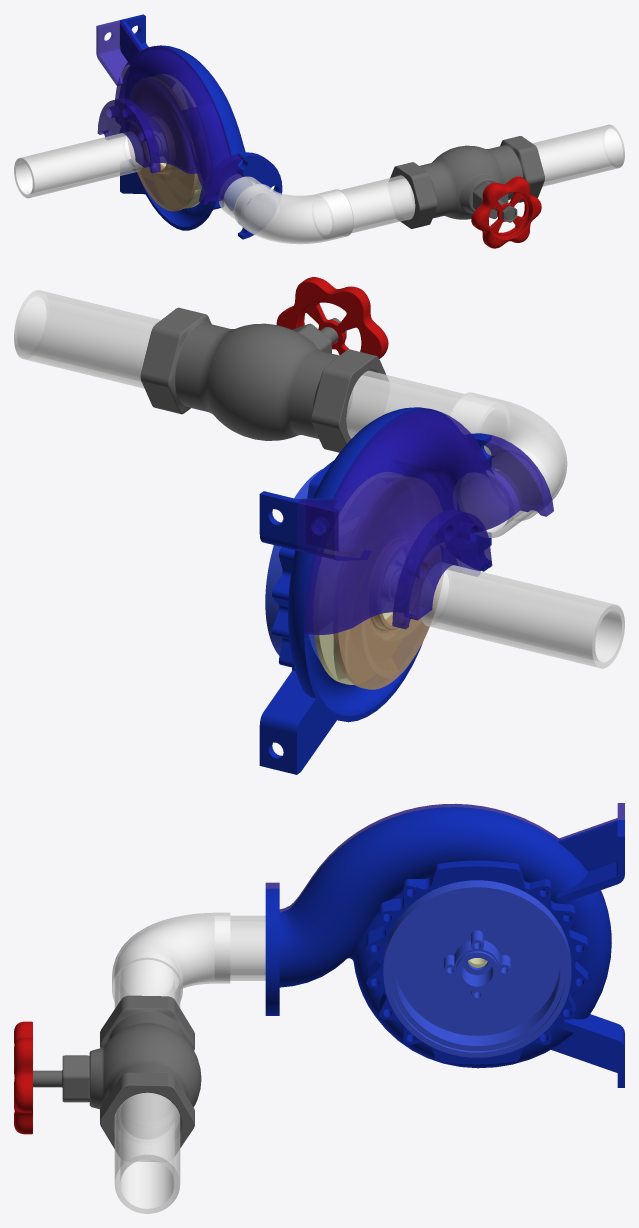
Rendered from bomba_centrifuga.fbx.
The picture shows the model from 3 angles, top to bottom: view 1: azimuth 30°, elevation 25°; view 2: azimuth 150°, elevation 25°; view 3: azimuth 270°, elevation 25°; orthographic projection. The views are drawn at different scales.
Visible parts, largest first — view 1: Cañerias Enteras, Bomba delantera, Bomba trasera, Vaálvula Estructura, Tapa Impulsor, Válvula, Impulsor; view 2: Bomba delantera, Cañerias Enteras, Bomba trasera, Vaálvula Estructura, Tapa Impulsor, Impulsor, Válvula, Tapa trasera; view 3: Bomba trasera, Tapa trasera, Cañerias Enteras, Vaálvula Estructura, Válvula, Bomba delantera.
Part boxes in pixels (<box>): Cañerias Enteras: <box>14,124,624,244</box>; Bomba delantera: <box>96,20,242,204</box>; Bomba trasera: <box>120,14,282,239</box>; Vaálvula Estructura: <box>389,136,544,228</box>; Tapa Impulsor: <box>127,77,197,211</box>; Válvula: <box>471,176,541,248</box>; Impulsor: <box>140,74,205,208</box>; Bomba delantera: <box>297,408,553,634</box>; Cañerias Enteras: <box>14,290,624,668</box>; Bomba trasera: <box>259,407,491,774</box>; Vaálvula Estructura: <box>140,307,388,452</box>; Tapa Impulsor: <box>333,477,445,689</box>; Impulsor: <box>314,472,421,684</box>; Válvula: <box>276,277,388,358</box>; Tapa trasera: <box>265,469,365,661</box>; Bomba trasera: <box>265,807,624,1087</box>; Tapa trasera: <box>383,880,571,1057</box>; Cañerias Enteras: <box>112,912,265,1213</box>; Vaálvula Estructura: <box>33,995,201,1161</box>; Válvula: <box>14,1021,32,1134</box>; Bomba delantera: <box>265,803,624,936</box>.
Size of the model in its own units: 144 by 52.12 by 109.
